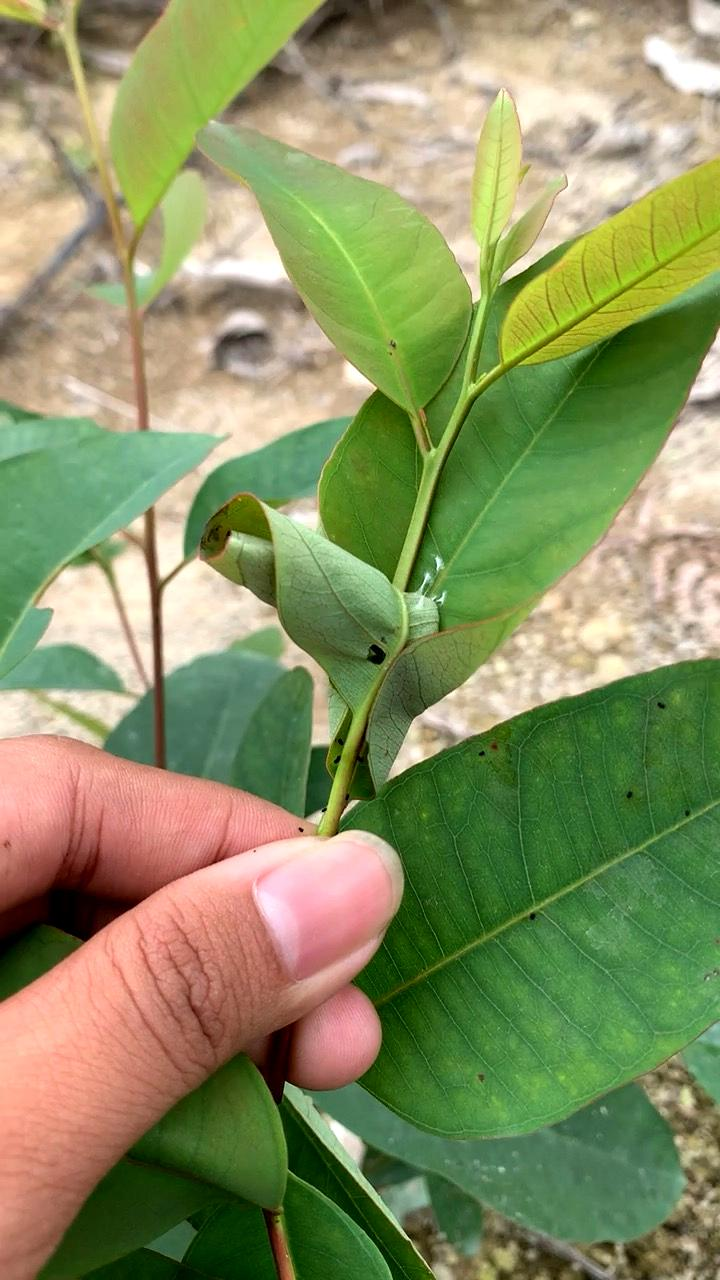Leaf Roller - Leaf: (165, 473, 491, 710)
